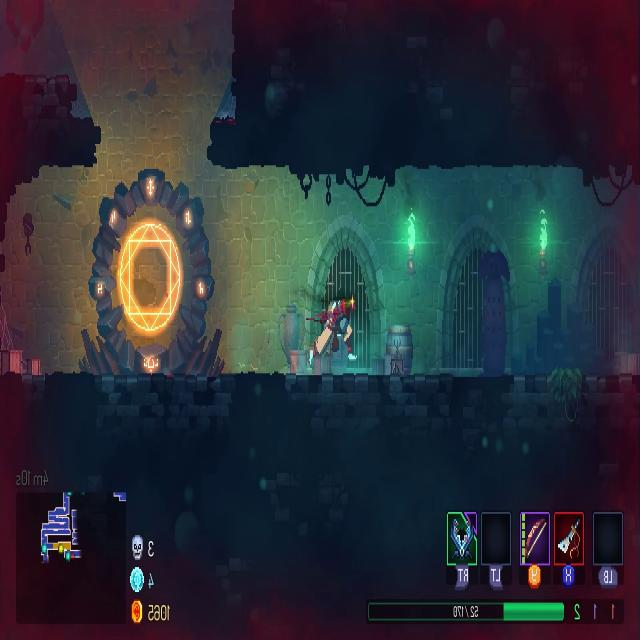agents: (311, 297, 357, 366)
